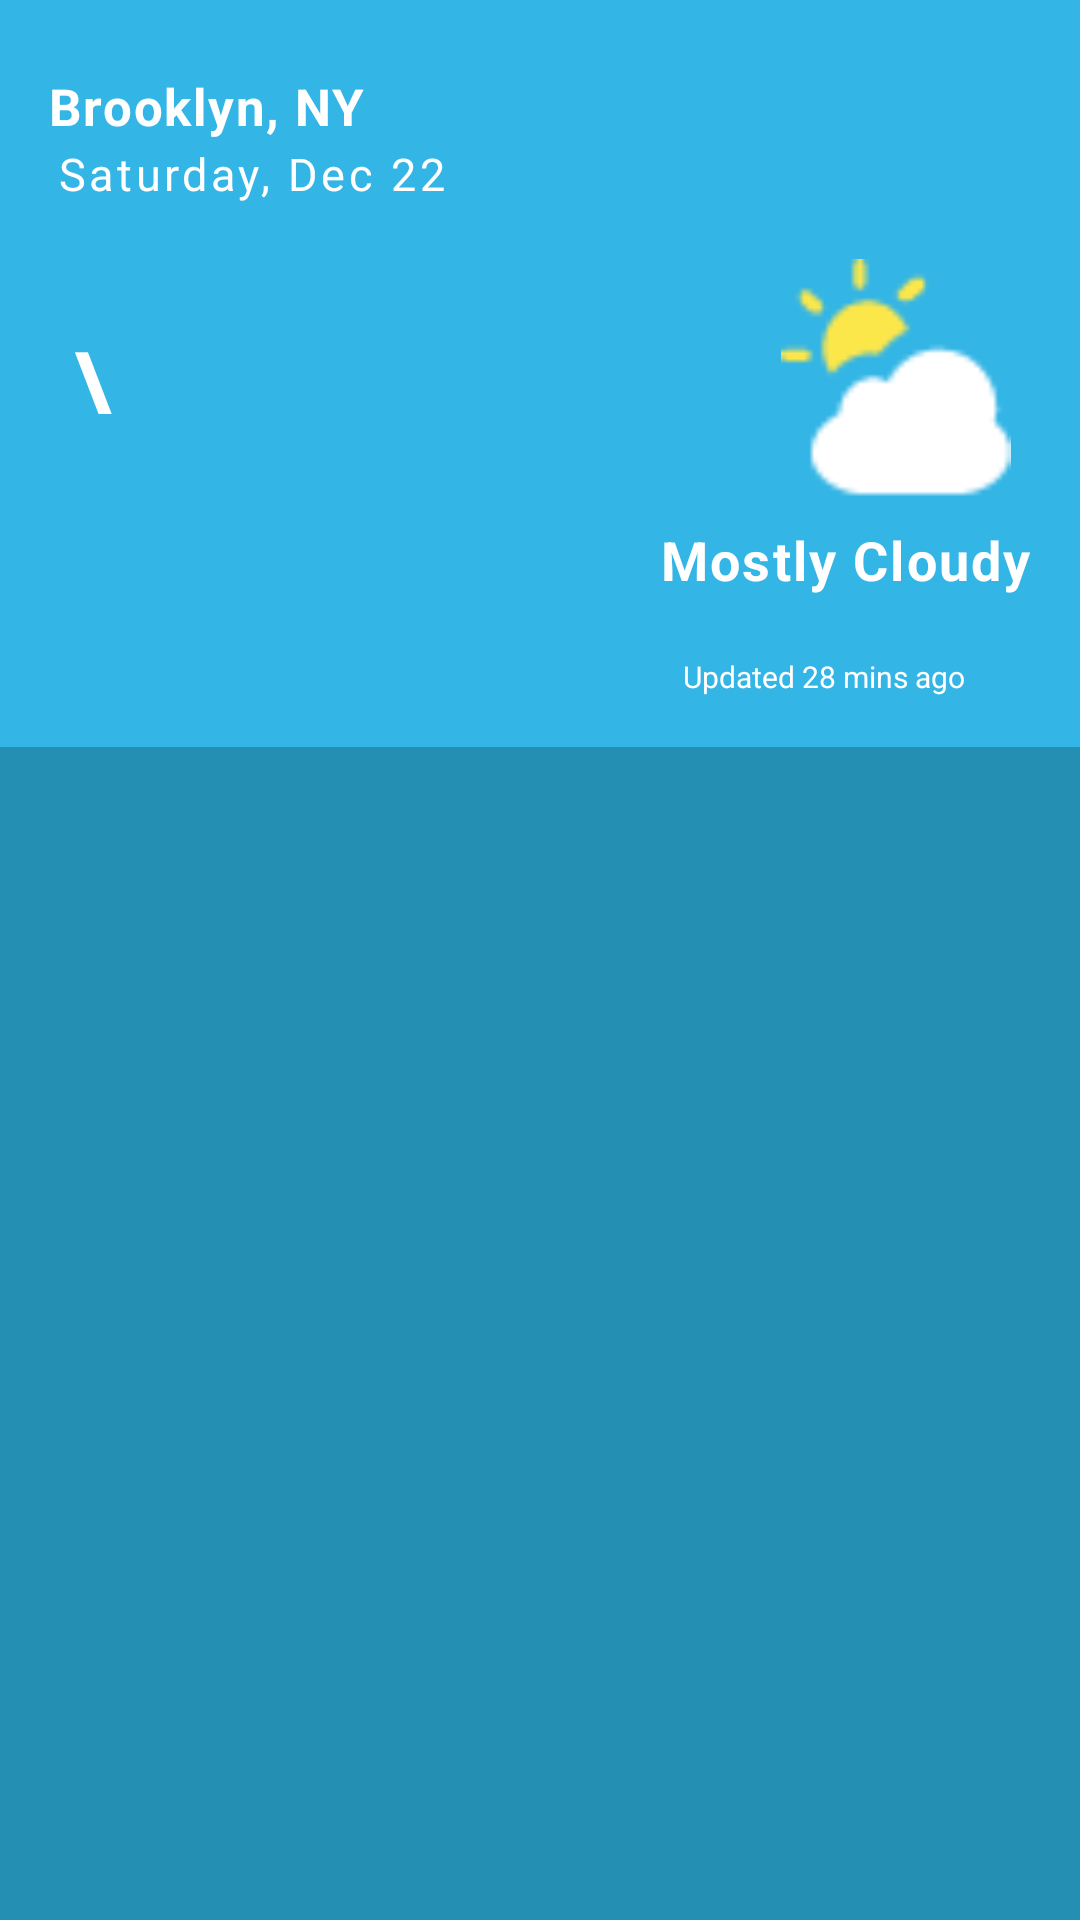

Named icons in this screenshot (1080w x 1920h) and their bounding boxes, (x1, y1, x2, y2):
partly cloudy: (781, 259, 1011, 496)
